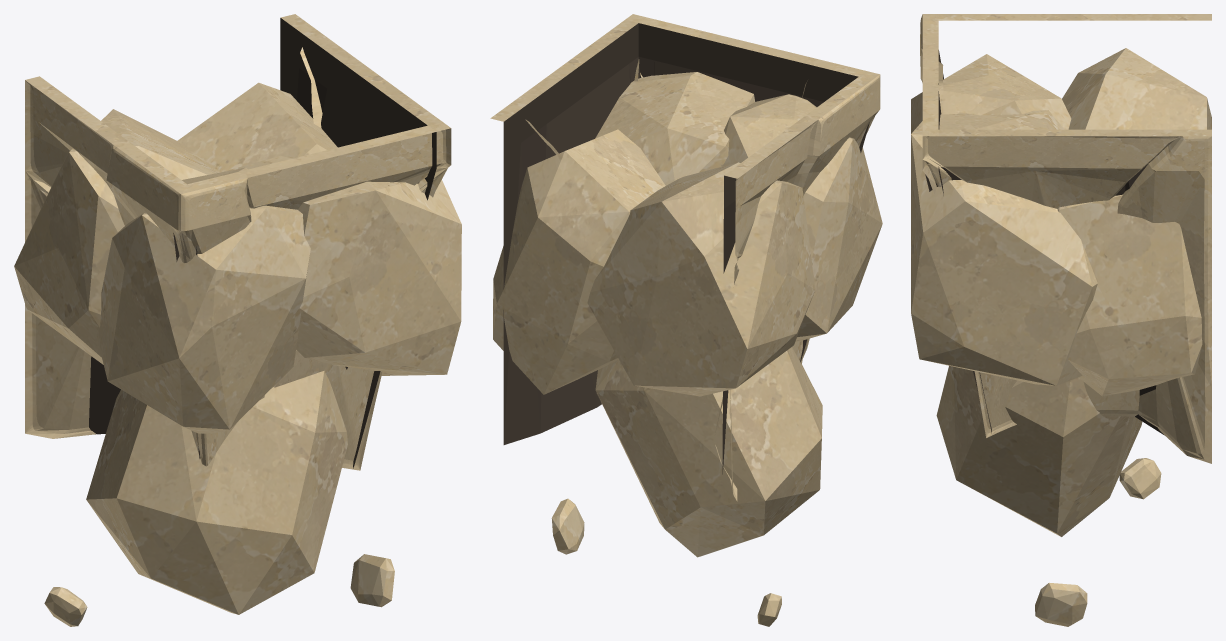
The model's file is ground_bottom_end_08.glb.
3 renders of one model, left to right at view 1: azimuth 30°, elevation 25°; view 2: azimuth 150°, elevation 25°; view 3: azimuth 270°, elevation 25°, orthographic. The views are drawn at different scales.
Parts seen in each view (by area): view 1: GroundBottomEnd08_Body; view 2: GroundBottomEnd08_Body; view 3: GroundBottomEnd08_Body.
Part boxes in pixels (box(x1,y1,x2,y2)): GroundBottomEnd08_Body: box(14, 14, 461, 626); GroundBottomEnd08_Body: box(490, 14, 882, 626); GroundBottomEnd08_Body: box(911, 14, 1211, 626).
Bounding box in the file's own units: 1.08 × 1.88 × 1.04.
Materials: 12 (11 with a texture image).
